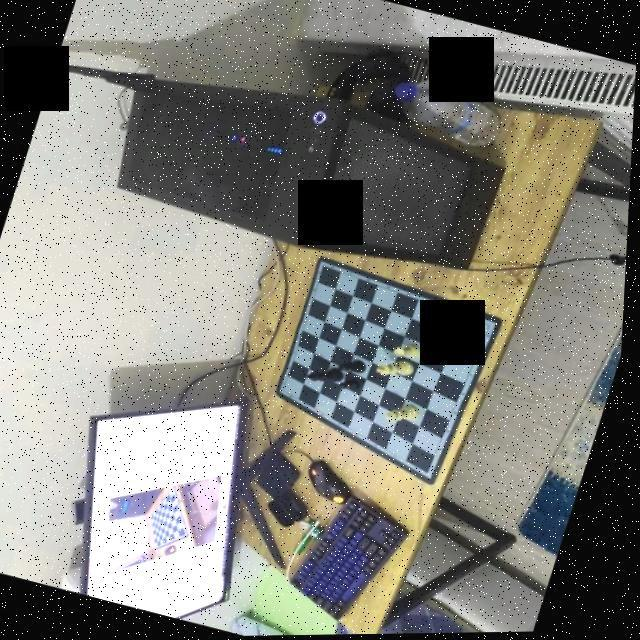chess-table-corners: (484, 319, 498, 332), (424, 466, 438, 479), (280, 384, 292, 396), (319, 262, 331, 272)
